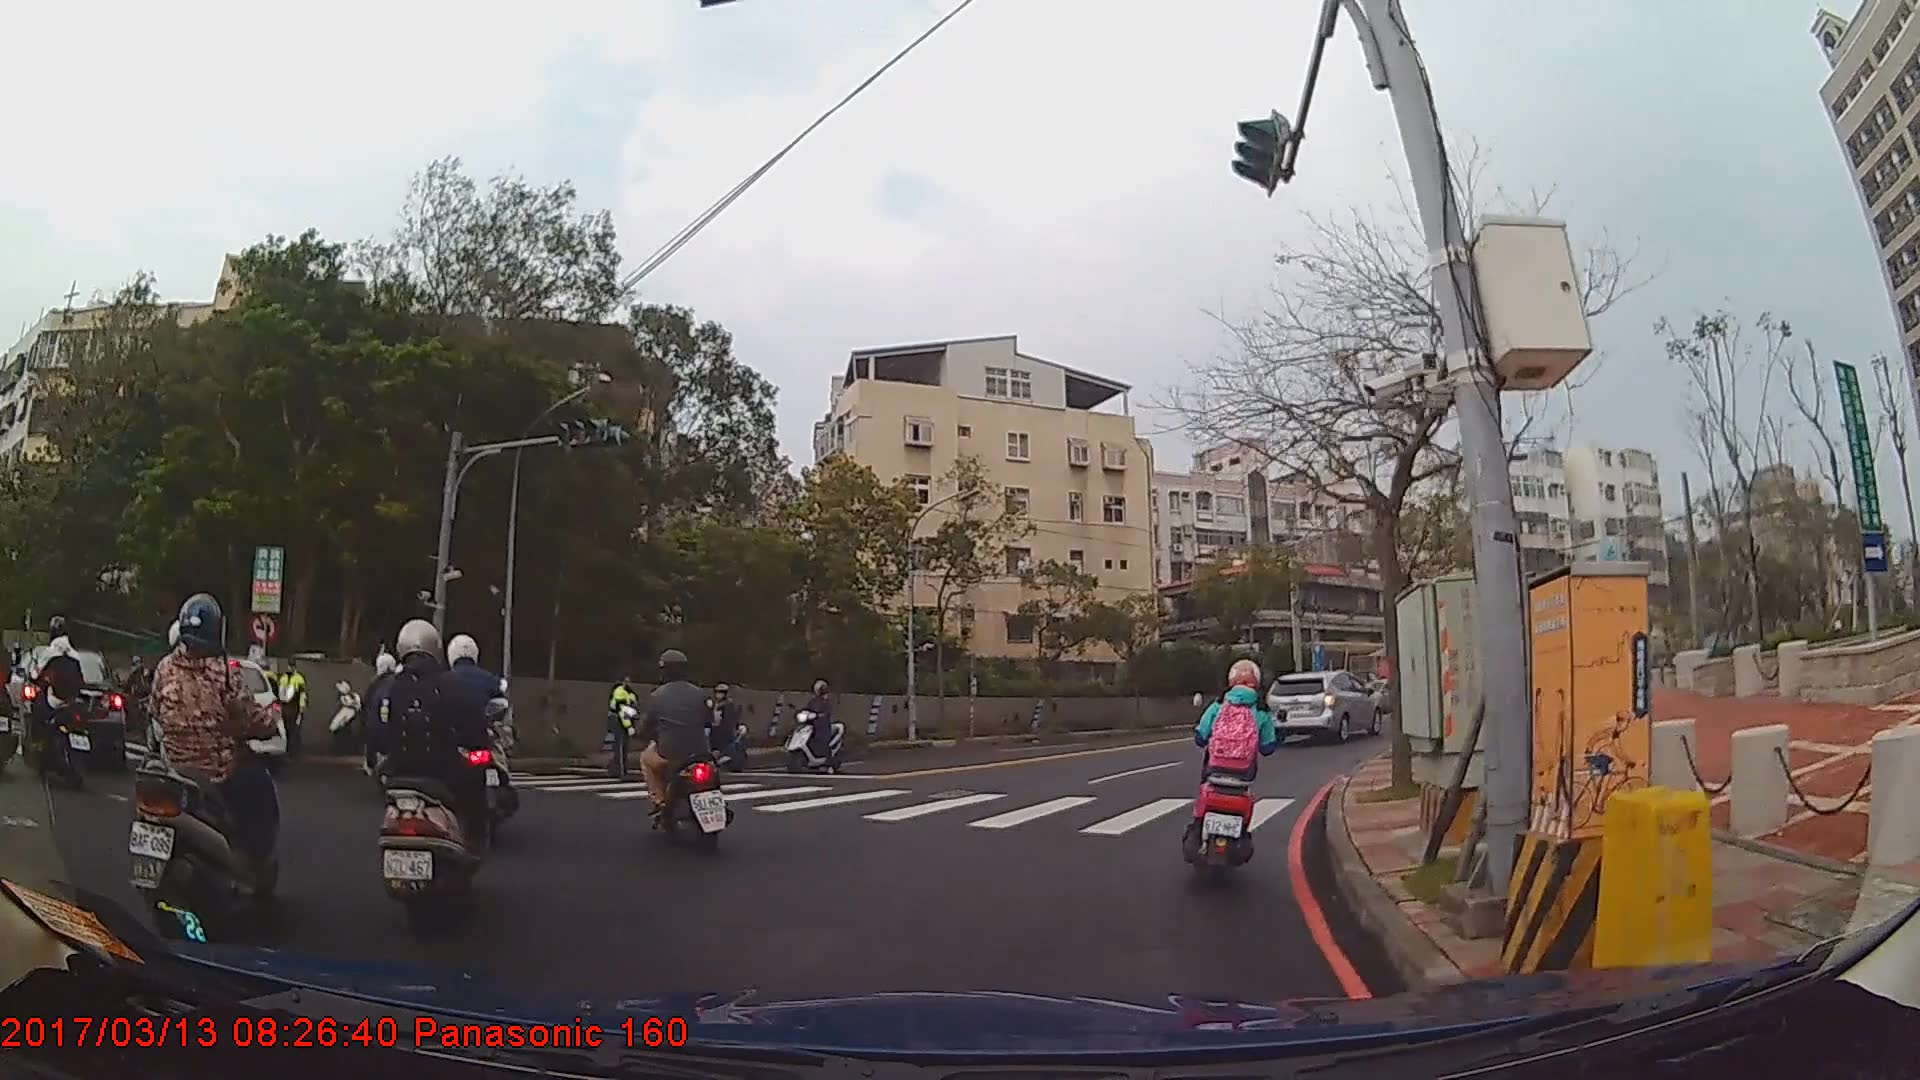pedestrian: (600, 671, 640, 780), (275, 658, 312, 764)
rider: (135, 591, 287, 936), (368, 613, 492, 912), (1192, 656, 1284, 868), (634, 648, 727, 853), (432, 630, 520, 840), (345, 652, 426, 805), (28, 617, 87, 781), (683, 680, 748, 770), (784, 679, 846, 772)
vehicle: (17, 646, 127, 767), (1258, 666, 1382, 745)
